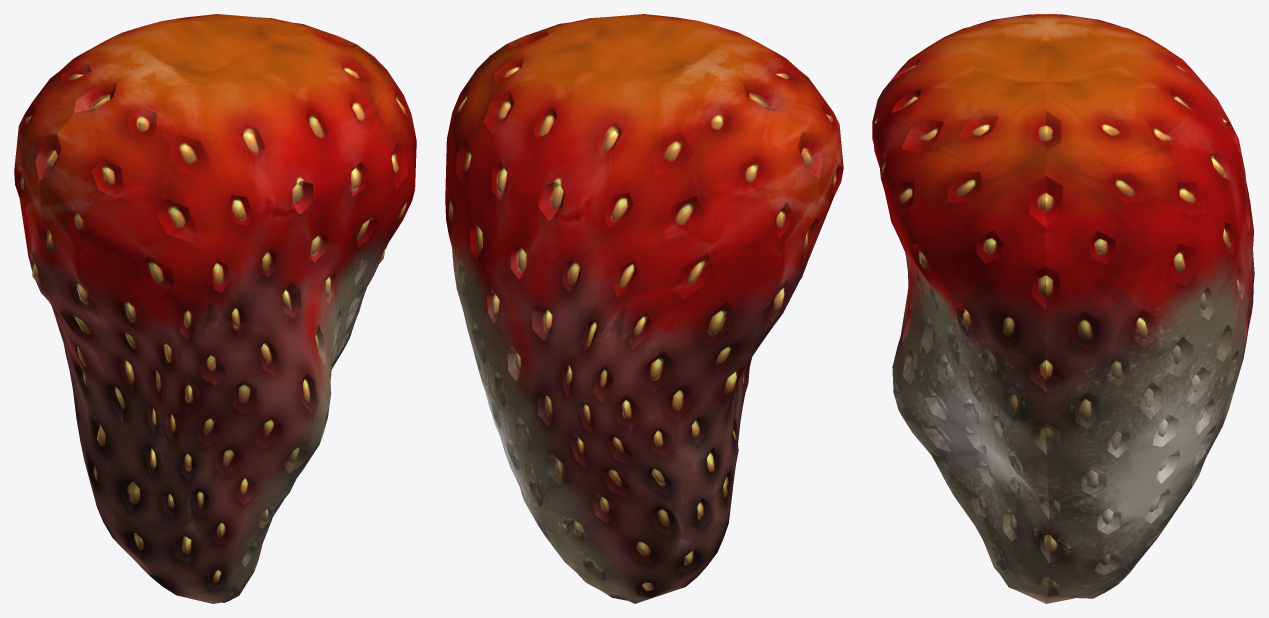
Rendered from mFraiseP2outline.FBX.
3 views of the same model, side by side, from view 1: azimuth 30°, elevation 25°; view 2: azimuth 150°, elevation 25°; view 3: azimuth 270°, elevation 25° (orthographic).
Parts seen in each view (by area): view 1: Fraise_Negatif_02_OUTLINE; view 2: Fraise_Negatif_02_OUTLINE; view 3: Fraise_Negatif_02_OUTLINE.
Part boxes in pixels (x1,y1,x2,y2): Fraise_Negatif_02_OUTLINE: (14, 14, 416, 603); Fraise_Negatif_02_OUTLINE: (445, 14, 843, 603); Fraise_Negatif_02_OUTLINE: (872, 14, 1254, 603).
Bounding box in the file's own units: 1.28 × 1.92 × 1.21.
